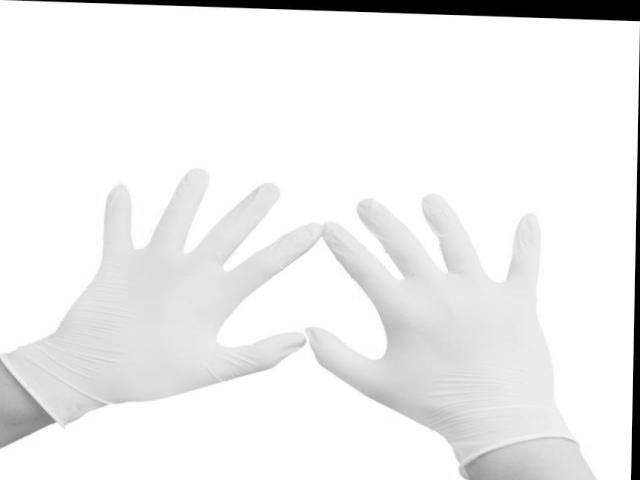gloved: (48, 166, 322, 399), (314, 193, 558, 415)
